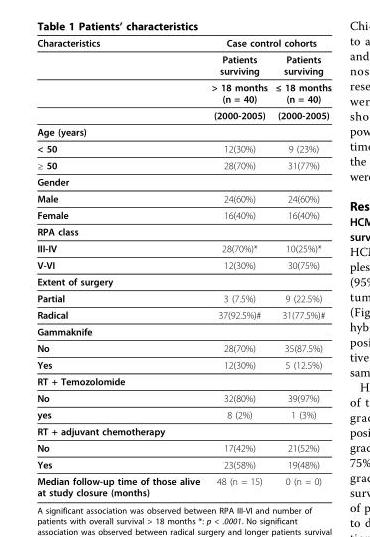table: (36, 36, 331, 497)
table column: (36, 36, 204, 497), (204, 36, 270, 497), (270, 36, 331, 497)
table column header: (36, 36, 331, 78)
table projected row header: (36, 322, 331, 339), (36, 372, 331, 389), (36, 422, 331, 439), (36, 123, 331, 139), (36, 173, 331, 189), (36, 223, 331, 239), (36, 273, 331, 289)
table row: (36, 50, 331, 78), (36, 78, 331, 106), (36, 472, 331, 497), (36, 106, 331, 123), (36, 139, 331, 156), (36, 156, 331, 173), (36, 189, 331, 206), (36, 206, 331, 223), (36, 239, 331, 256), (36, 256, 331, 273), (36, 289, 331, 306), (36, 322, 331, 339), (36, 339, 331, 356), (36, 372, 331, 389), (36, 389, 331, 406), (36, 422, 331, 439), (36, 455, 331, 472), (36, 123, 331, 139), (36, 173, 331, 189), (36, 223, 331, 239), (36, 273, 331, 289), (36, 306, 331, 322), (36, 356, 331, 372), (36, 406, 331, 422), (36, 439, 331, 455), (36, 36, 331, 50)
table spanning cell: (36, 36, 204, 78), (204, 36, 331, 50)
